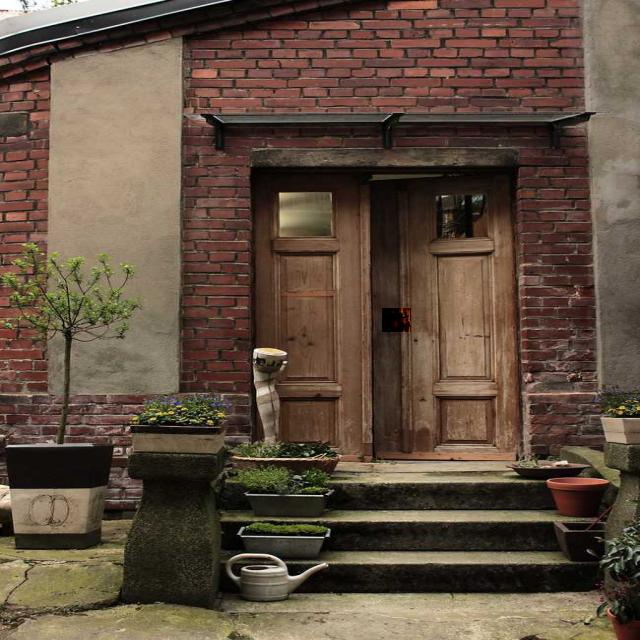doorhandle: (382, 308, 411, 332)
